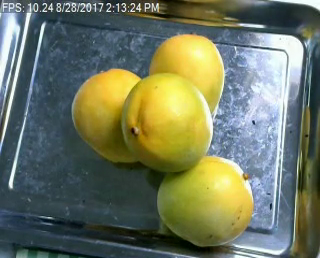Mango: (154, 156, 254, 245), (121, 71, 210, 169), (71, 67, 148, 164), (148, 34, 222, 118)
